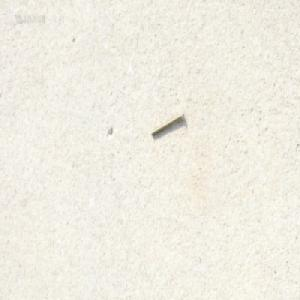Bolt: (150, 109, 183, 137)
